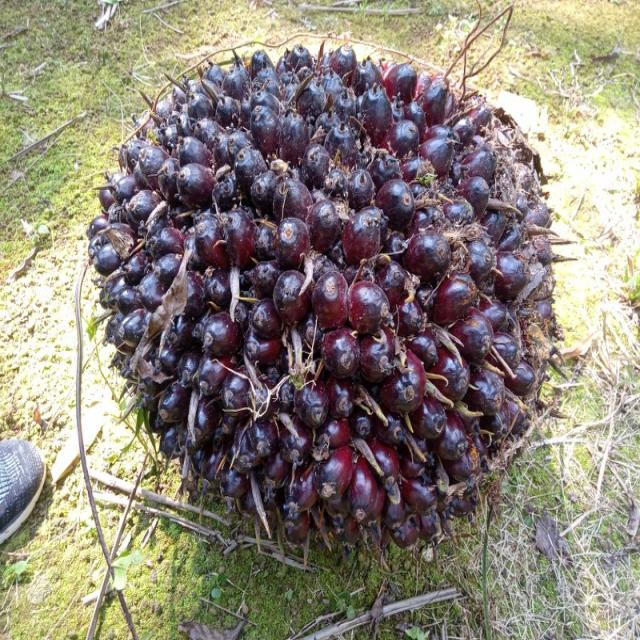fraksi 1: (82, 36, 562, 554)
